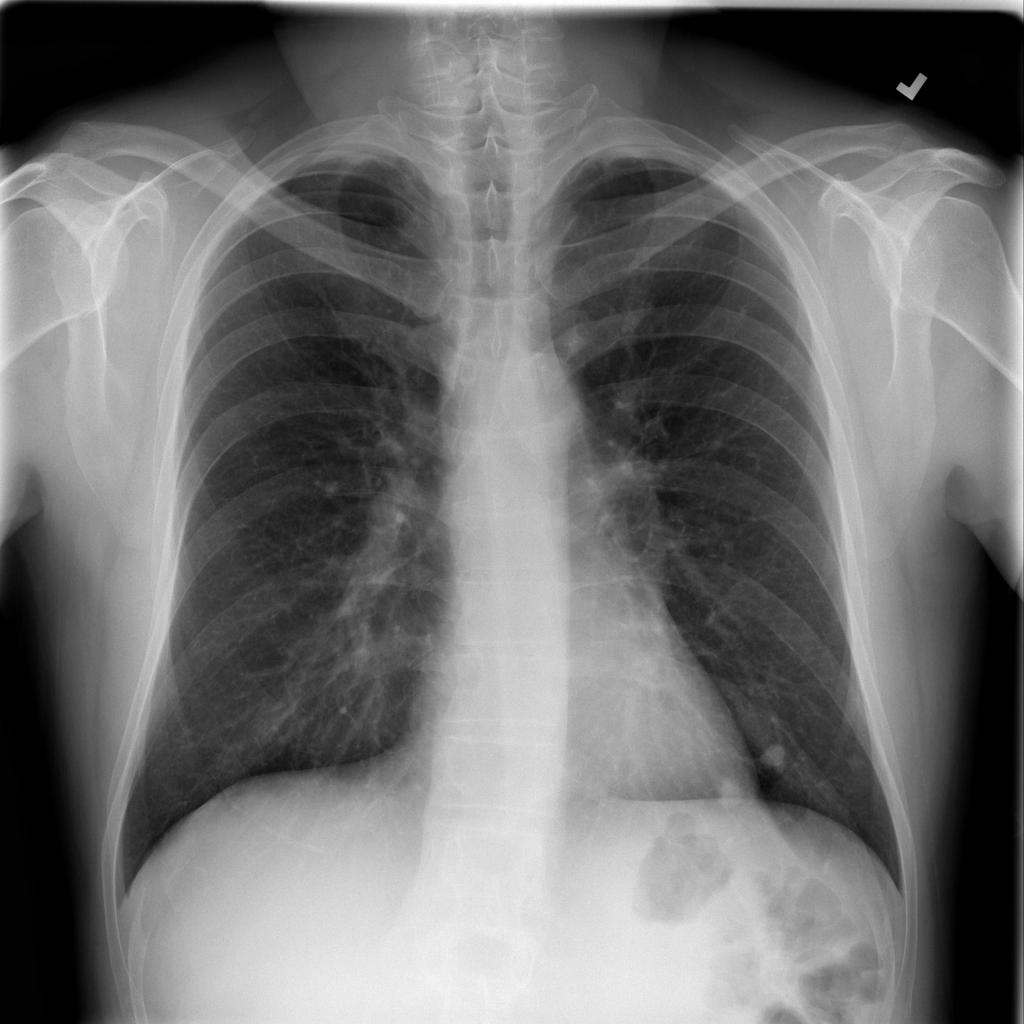nodule: (694, 752, 766, 825), (748, 732, 801, 779)
